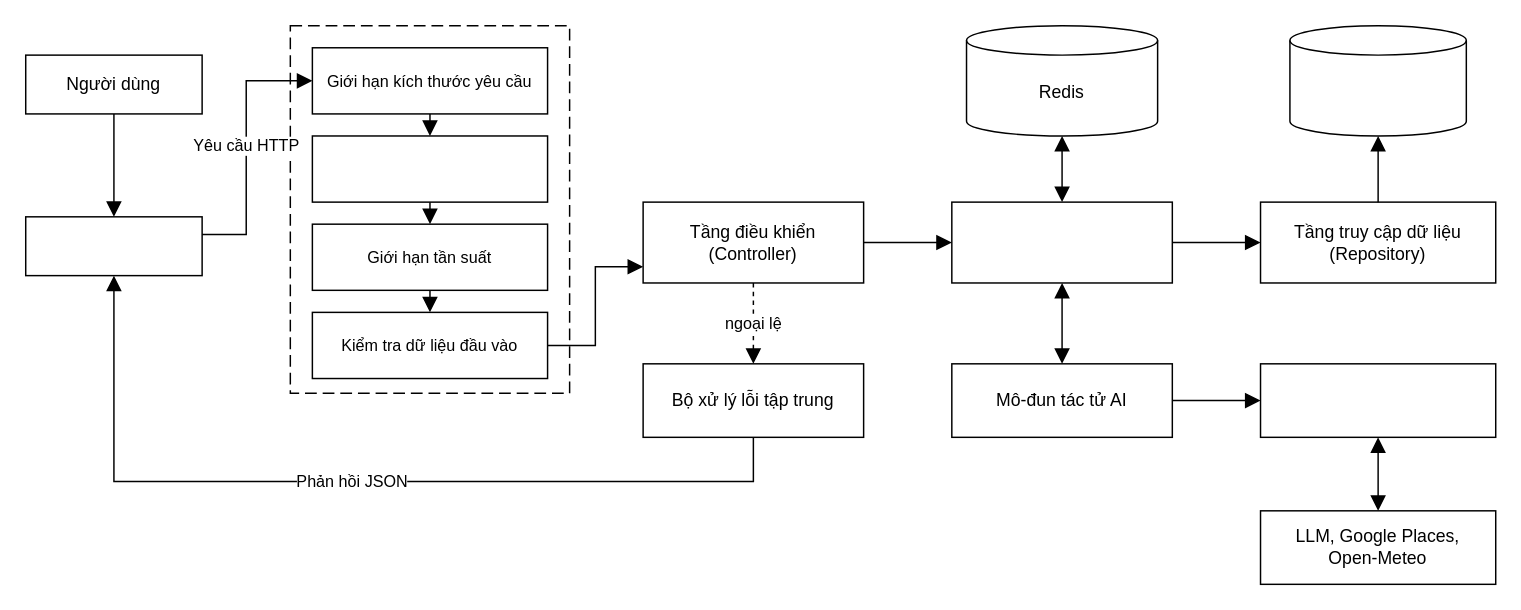
The diagram is 1521 pixels wide and 610 high, and some of its shapes have lost their labels. The centre of each missing label's shape, as x and y in pixels:
"Bộ kết nối dịch vụ ngoài" belongs at [1377,399].
"Frontend" belongs at [113,245].
"PostgreSQL" belongs at [1377,80].
"Tầng dịch vụ (Service)" belongs at [1061,242].
"Xác thực mã phiên JWT" belongs at [429,168].
